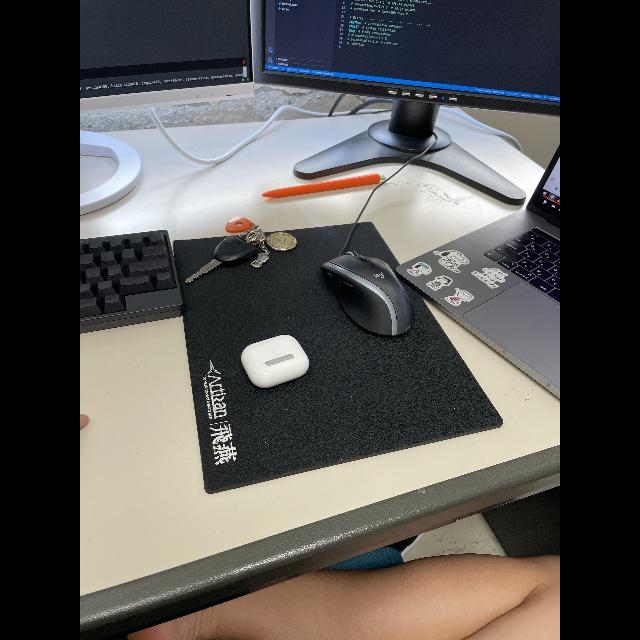airpod3: (240, 332, 314, 391)
